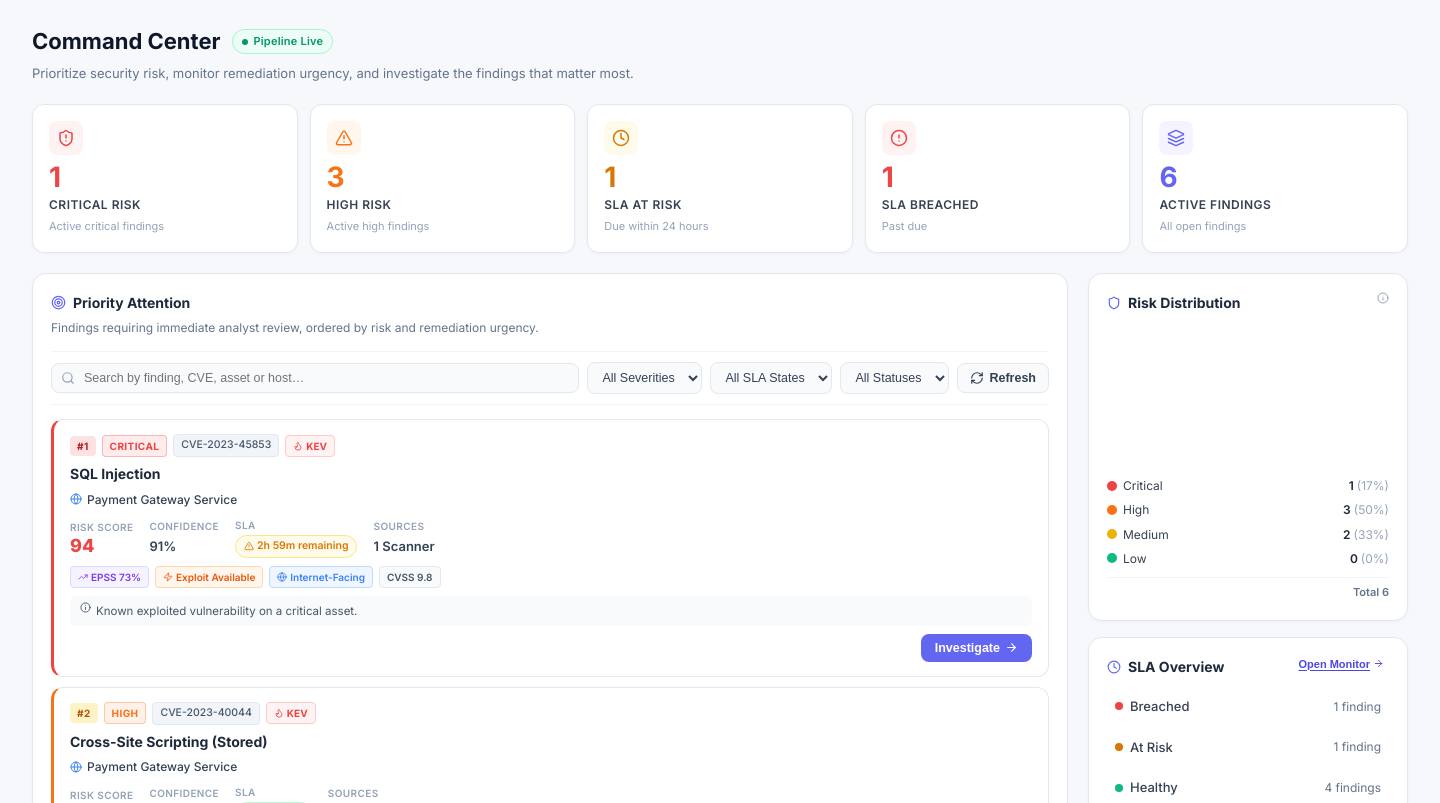
Command Center — Search & Filters › shows no-match state and Reset Filters button when filters exclude all
The width and height of the screenshot is (1440, 803).
Expected: the text "SQL Injection" is shown, [70,465,160,482]
In the field named "Search findings": coordinates (315, 378) [51,363,580,393], type "zzznotexisting"
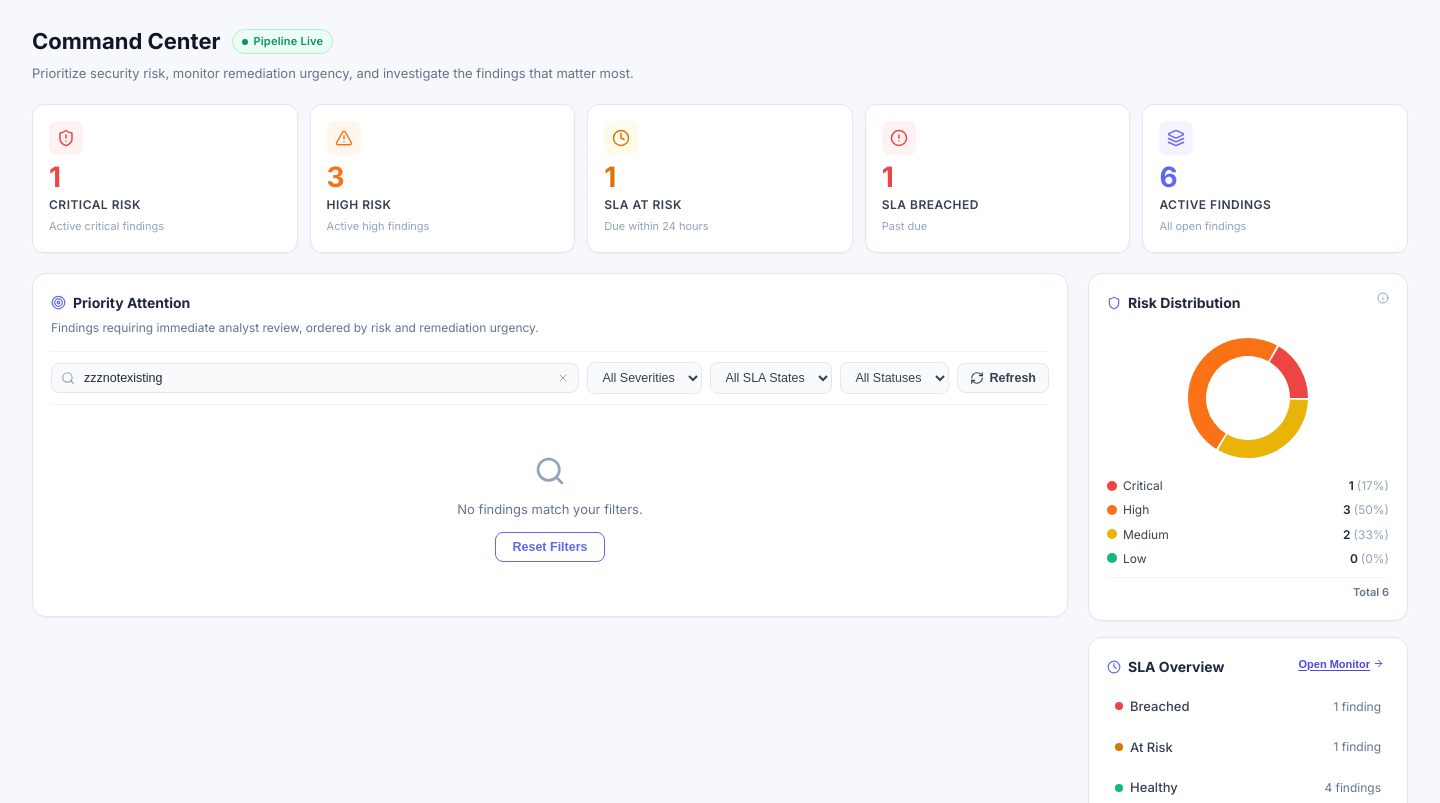
Expected: the text "No findings match your filters." is shown, [457,499,643,520]
Expected: the button "Reset Filters" is shown, [496,532,604,562]
